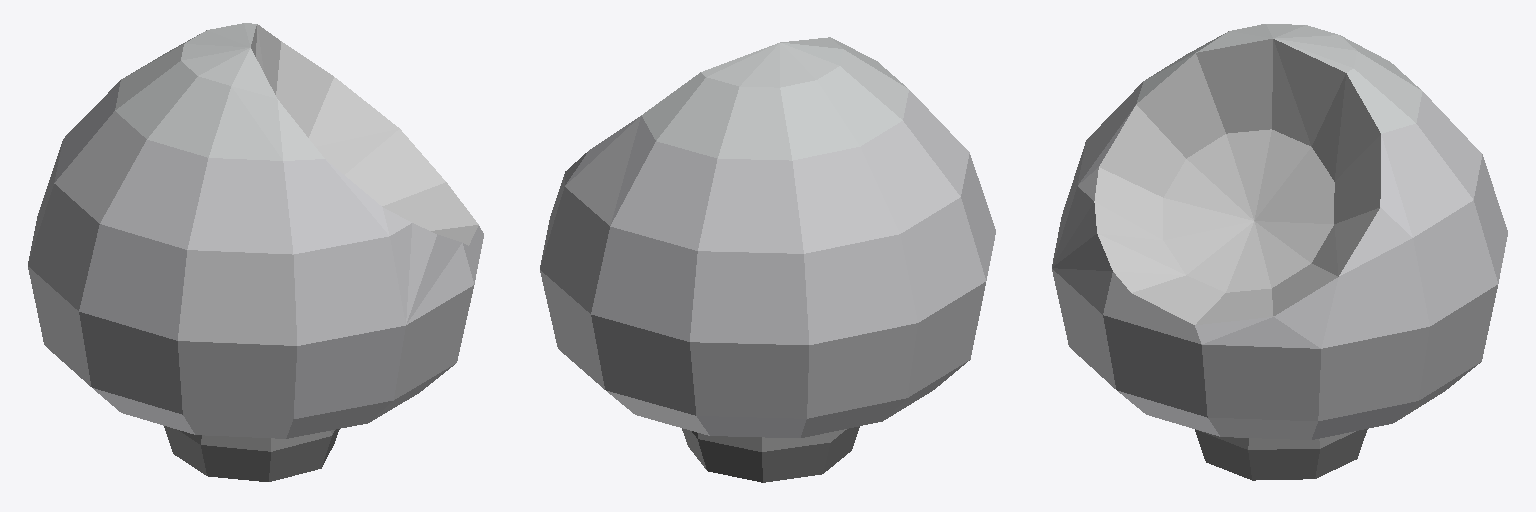
The model's file is speedDown.obj.
The picture shows the model from 3 angles: view 1: azimuth 30°, elevation 25°; view 2: azimuth 150°, elevation 25°; view 3: azimuth 270°, elevation 25°; orthographic projection.
Parts seen in each view (by area): view 1: shape0_material3; view 2: shape0_material3; view 3: shape0_material3.
Part boxes in pixels (bbox=[...]): shape0_material3: bbox=[28, 23, 483, 481]; shape0_material3: bbox=[540, 37, 995, 482]; shape0_material3: bbox=[1052, 24, 1507, 480].
Bounding box in the file's own units: 1.56 × 1.61 × 1.56.